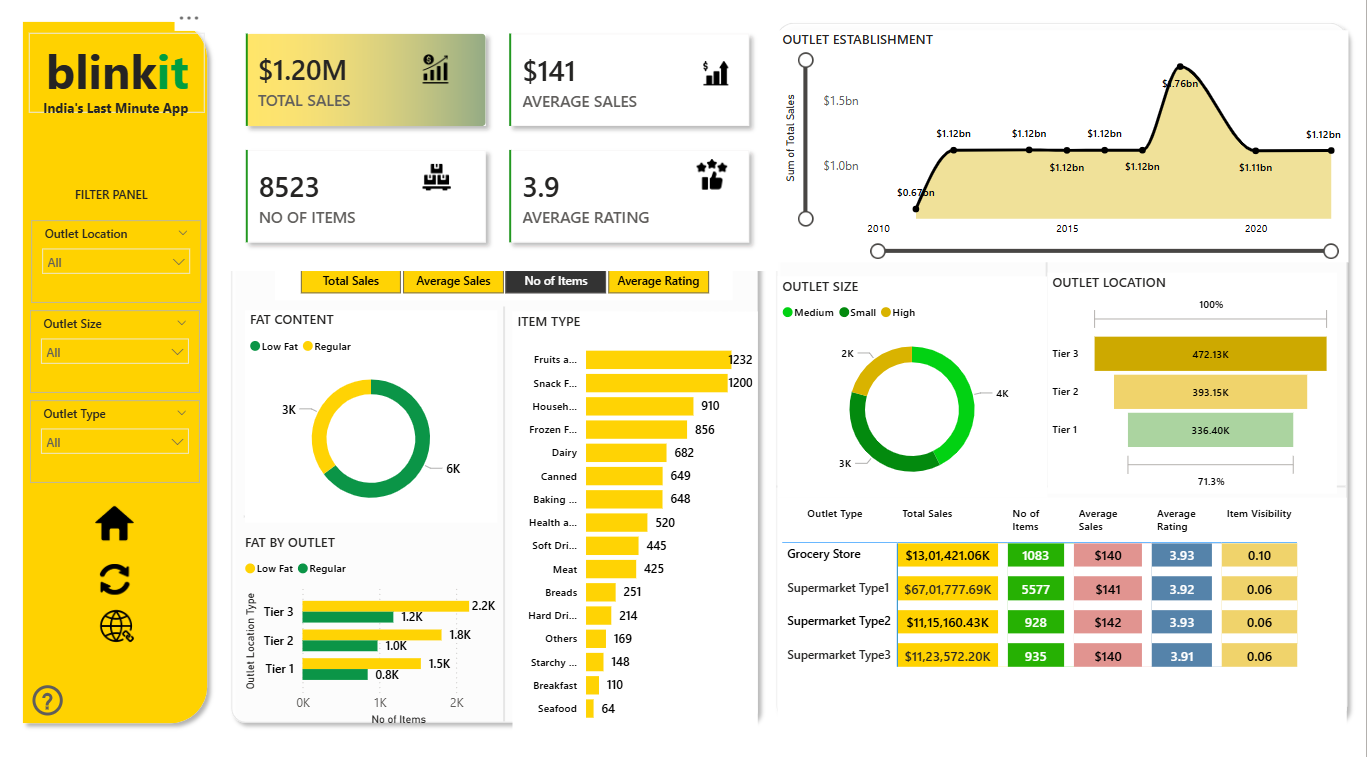

Layout of this report page (visuals, bound fields, positions):
{"tool":"powerbi","page":{"name":"Home","canvas":[1400,800],"ordinal":0},"visuals":[{"type":"shape","box":[23.6,23.6,206,732],"z":0},{"type":"donutChart","title":"FAT CONTENT","fields":{"Y":["BlinkIT Grocery Data.No of Items"],"Category":["BlinkIT Grocery Data.Item Fat Content"]},"box":[259.8,327.2,256.6,216.1],"z":0,"group":"g2"},{"type":"textbox","box":[39,45,180.1,81],"z":1000},{"type":"clusteredBarChart","title":"FAT BY OUTLET","fields":{"Y":["BlinkIT Grocery Data.No of Items"],"Category":["BlinkIT Grocery Data.Outlet Location Type"],"Series":["BlinkIT Grocery Data.Item Fat Content"]},"box":[253.8,553.8,271.7,201.1],"z":1000,"group":"g2"},{"type":"textbox","box":[39,106.6,177.1,34.5],"z":2000},{"type":"barChart","title":"ITEM TYPE","fields":{"Y":["BlinkIT Grocery Data.No of Items"],"Category":["BlinkIT Grocery Data.Item Type"]},"box":[532.1,327.5,249.4,428.2],"z":2000,"group":"g2"},{"type":"cardVisual","fields":{"Data":["Avg(BlinkIT Grocery Data.Total Sales)","BlinkIT Grocery Data.Average Sales","BlinkIT Grocery Data.No of Items","BlinkIT Grocery Data.Average Rating"]},"box":[231.3,16.5,570.3,270.2],"z":3000,"group":"g1"},{"type":"lineChart","title":"OUTLET ESTABLISHMENT","fields":{"Y":["Sum(BlinkIT Grocery Data.Total Sales)"],"Category":["BlinkIT Grocery Data.Outlet Establishment Year"]},"box":[801.6,42,580,235],"z":3000,"group":"g2"},{"type":"shape","box":[237.1,255.1,553.8,499.8],"z":3000},{"type":"image","box":[426.4,66,54,30],"z":4000,"group":"g1"},{"type":"slicer","fields":{"Values":["Metricss.Metricss"]},"box":[289.7,276.2,465.3,40.5],"z":4000},{"type":"donutChart","title":"OUTLET SIZE","fields":{"Y":["BlinkIT Grocery Data.No of Items"],"Category":["BlinkIT Grocery Data.Outlet Size"]},"box":[801.6,292.7,274,225],"z":4000,"group":"g2"},{"type":"image","box":[725.1,66,27,39],"z":5000,"group":"g1"},{"type":"funnel","title":"OUTLET LOCATION","fields":{"Category":["BlinkIT Grocery Data.Outlet Location Type"],"Y":["Sum(BlinkIT Grocery Data.Sales)"]},"box":[1076.3,288.2,294.2,225.1],"z":5000,"group":"g2"},{"type":"cardVisual","fields":{"Data":["BlinkIT Grocery Data.No of Items"]},"box":[343.7,412.7,108.1,73.5],"z":5000},{"type":"image","box":[439.9,166.6,28.5,49.5],"z":6000,"group":"g1"},{"type":"shape","box":[258.4,486.8,255.4,99.2],"z":6000},{"type":"pivotTable","fields":{"Rows":["BlinkIT Grocery Data.Outlet Type"],"Values":["Sum(BlinkIT Grocery Data.Total Sales)","BlinkIT Grocery Data.No of Items","BlinkIT Grocery Data.Average Sales","BlinkIT Grocery Data.Average Rating","Avg(BlinkIT Grocery Data.Item Visibility)"]},"box":[801.6,517.8,579.3,237.1],"z":6000,"group":"g2"},{"type":"image","box":[717.6,172.6,34.5,31.5],"z":7000,"group":"g1"},{"type":"slicer","fields":{"Values":["BlinkIT Grocery Data.Outlet Location Type"]},"box":[42.2,235.6,172.6,84],"z":7000,"group":"g2"},{"type":"shape","box":[479.3,323,87.1,422.2],"z":7000},{"type":"shape","box":[791,25.5,598.8,729.4],"z":8000},{"type":"slicer","fields":{"Values":["BlinkIT Grocery Data.Outlet Size"]},"box":[40.7,327.2,172.6,84],"z":8000,"group":"g2"},{"type":"shape","box":[800,226.6,568.8,99.1],"z":9000},{"type":"slicer","fields":{"Values":["BlinkIT Grocery Data.Outlet Type"]},"box":[40.7,418.7,172.6,84],"z":9000,"group":"g2"},{"type":"group","id":"g1","title":"Group 1","box":[231.3,16.5,570.3,270.2],"z":10000,"group":"g2"},{"type":"shape","box":[800,456.3,579.3,99.1],"z":10000},{"type":"shape","box":[947,276.2,255.1,229.6],"z":11000},{"type":"group","id":"g2","title":"Group 2","box":[40.7,16.5,1340.5,738.9],"z":12000},{"type":"textbox","box":[81,195.1,88.6,31.5],"z":13000},{"type":"image","box":[96.1,523.8,60,39],"z":14000},{"type":"image","box":[100.6,585.3,52.5,31.5],"z":15000},{"type":"actionButton","box":[38.5,703.5,48.4,40.9],"z":16000},{"type":"image","box":[91.6,625.9,73.5,45],"z":17000}]}

Visuals, with their boxes on the page's 1400x800 design canvas (x1, y1, x2, y2). These are canvas units, not pixel positions in the 1371x757 screenshot, which may show the page scaled, cropped or inside an application window:
shape: bbox=(24, 24, 230, 756)
"FAT CONTENT" donutChart: bbox=(260, 327, 516, 543)
textbox: bbox=(39, 45, 219, 126)
"FAT BY OUTLET" clusteredBarChart: bbox=(254, 554, 526, 755)
textbox: bbox=(39, 107, 216, 141)
"ITEM TYPE" barChart: bbox=(532, 328, 782, 756)
cardVisual - Avg(BlinkIT Grocery Data.Total Sales) x BlinkIT Grocery Data.Average Sales: bbox=(231, 16, 802, 287)
"OUTLET ESTABLISHMENT" lineChart: bbox=(802, 42, 1382, 277)
shape: bbox=(237, 255, 791, 755)
image: bbox=(426, 66, 480, 96)
slicer - Metricss.Metricss: bbox=(290, 276, 755, 317)
"OUTLET SIZE" donutChart: bbox=(802, 293, 1076, 518)
image: bbox=(725, 66, 752, 105)
"OUTLET LOCATION" funnel: bbox=(1076, 288, 1370, 513)
cardVisual - BlinkIT Grocery Data.No of Items: bbox=(344, 413, 452, 486)
image: bbox=(440, 167, 468, 216)
shape: bbox=(258, 487, 514, 586)
pivotTable - BlinkIT Grocery Data.Outlet Type x Sum(BlinkIT Grocery Data.Total Sales): bbox=(802, 518, 1381, 755)
image: bbox=(718, 173, 752, 204)
slicer - BlinkIT Grocery Data.Outlet Location Type: bbox=(42, 236, 215, 320)
shape: bbox=(479, 323, 566, 745)
shape: bbox=(791, 26, 1390, 755)
slicer - BlinkIT Grocery Data.Outlet Size: bbox=(41, 327, 213, 411)
shape: bbox=(800, 227, 1369, 326)
slicer - BlinkIT Grocery Data.Outlet Type: bbox=(41, 419, 213, 503)
"Group 1" group: bbox=(231, 16, 802, 287)
shape: bbox=(800, 456, 1379, 555)
shape: bbox=(947, 276, 1202, 506)
"Group 2" group: bbox=(41, 16, 1381, 755)
textbox: bbox=(81, 195, 170, 227)
image: bbox=(96, 524, 156, 563)
image: bbox=(101, 585, 153, 617)
actionButton: bbox=(38, 704, 87, 744)
image: bbox=(92, 626, 165, 671)
